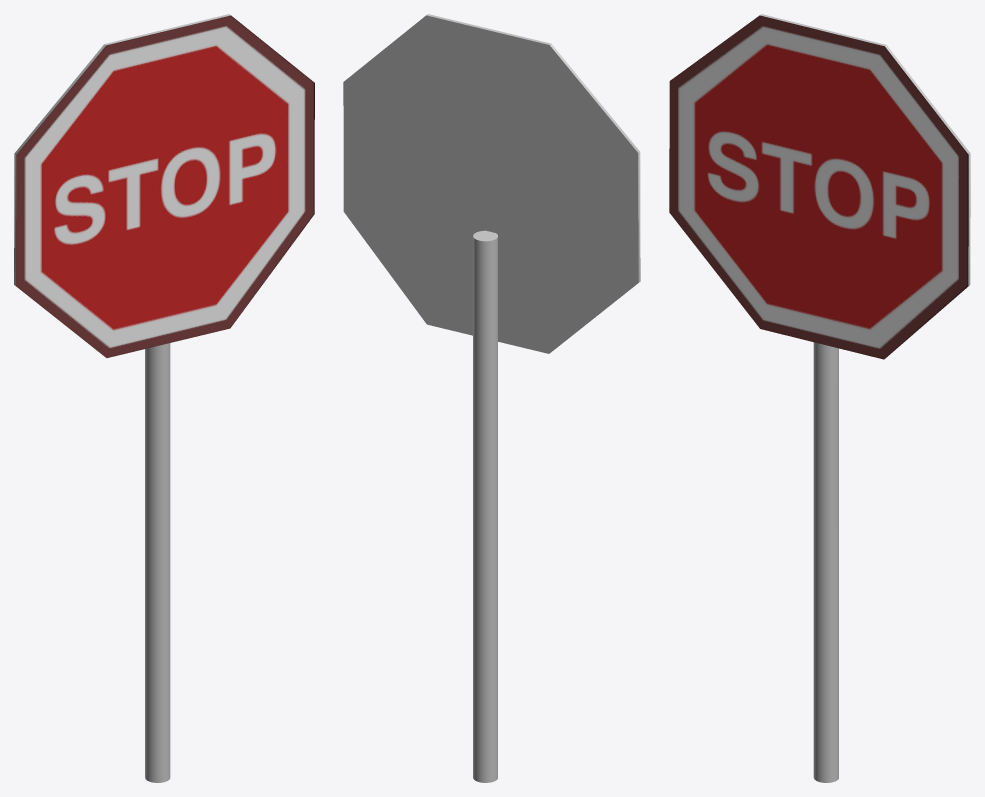
File: StopSign.fbx
3 renders of one model, left to right at view 1: azimuth 30°, elevation 25°; view 2: azimuth 150°, elevation 25°; view 3: azimuth 330°, elevation 25°, orthographic.
Visible parts, largest first — view 1: stopSign; view 2: stopSign; view 3: stopSign.
Boxes of the visible parts, box(x1,y1,x2,y2) form: stopSign: box(14, 14, 314, 782); stopSign: box(343, 14, 640, 782); stopSign: box(669, 14, 970, 782).
Bounding box in the file's own units: 2.34 × 5.64 × 0.1892.
